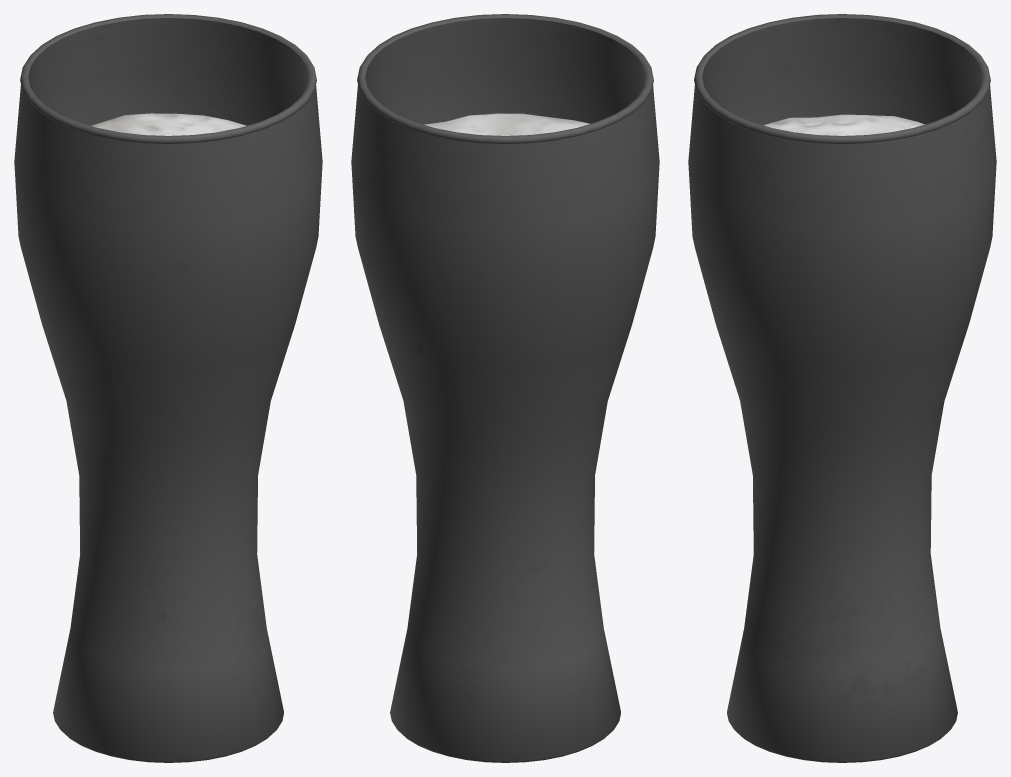
Rendered from Prop_Beer_Glass_x2.fbx.
The picture shows the model from 3 angles, left to right: view 1: azimuth 30°, elevation 25°; view 2: azimuth 150°, elevation 25°; view 3: azimuth 270°, elevation 25°; orthographic projection.
Parts seen in each view (by area): view 1: Prop_Glass, Prop_Beer_Foam; view 2: Prop_Glass, Prop_Beer_Foam; view 3: Prop_Glass, Prop_Beer_Foam.
Part boxes in pixels (box(x1,y1,x2,y2)): Prop_Glass: box(14, 14, 322, 762); Prop_Beer_Foam: box(91, 113, 246, 135); Prop_Glass: box(351, 14, 659, 762); Prop_Beer_Foam: box(424, 113, 590, 135); Prop_Glass: box(688, 14, 996, 762); Prop_Beer_Foam: box(763, 114, 924, 135).
Bounding box in the file's own units: 4.68 × 10.71 × 4.68.
